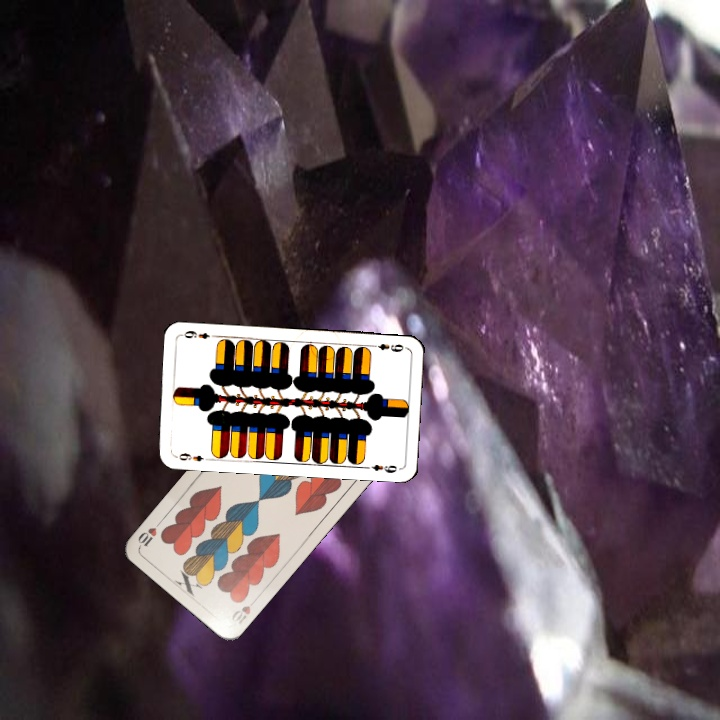E9: (367, 340, 408, 355), (172, 449, 213, 464)
H10: (227, 594, 259, 627)
